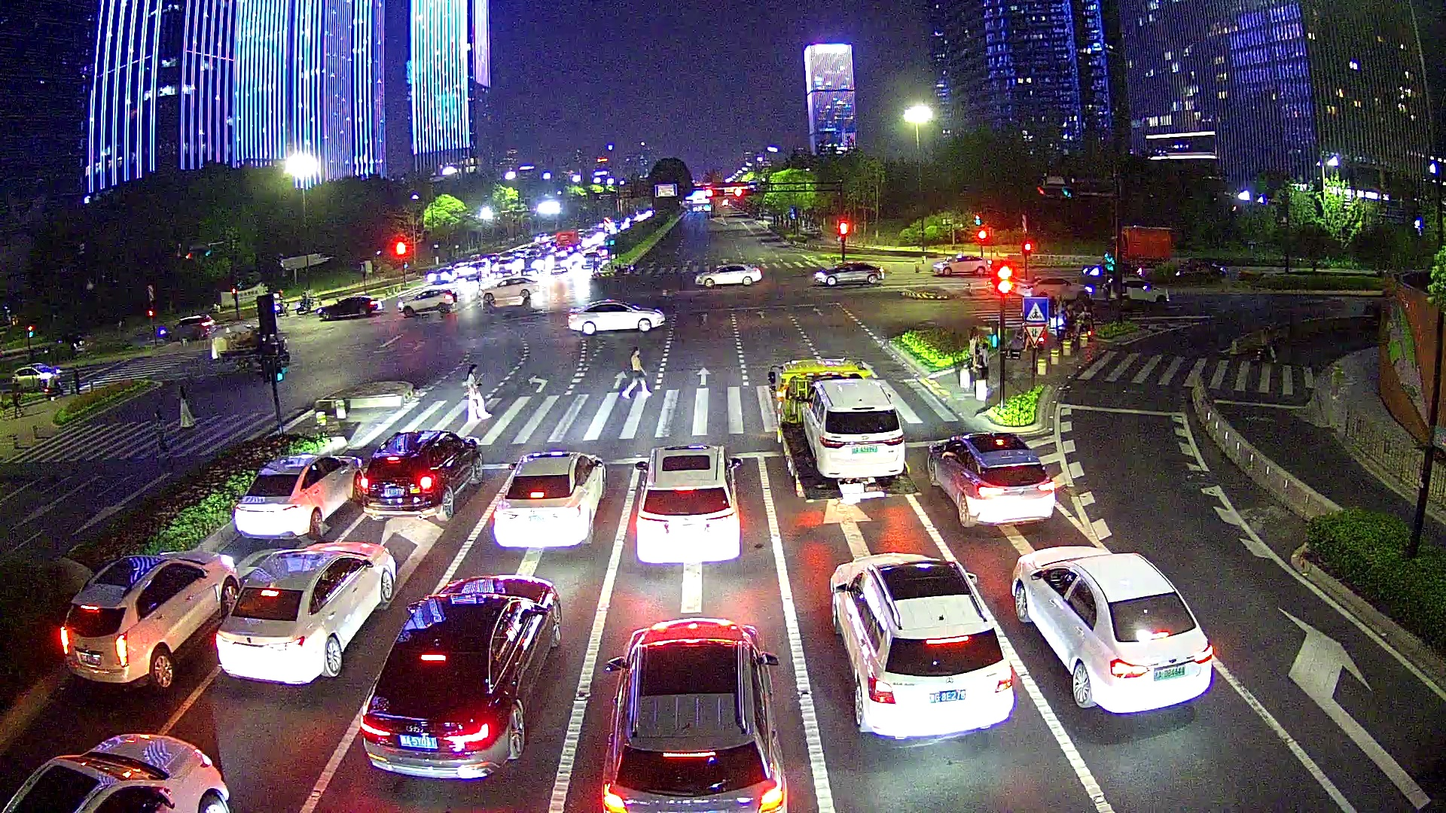person: (459, 360, 493, 423), (621, 344, 651, 403)
vehicle: (358, 571, 563, 781), (594, 613, 795, 808), (828, 548, 1017, 744), (1011, 540, 1219, 718), (47, 530, 239, 688), (215, 536, 407, 687), (758, 338, 917, 504), (230, 428, 369, 540), (628, 438, 745, 568), (923, 417, 1055, 530), (802, 372, 909, 489), (488, 445, 609, 548), (353, 423, 480, 518), (565, 296, 667, 336), (694, 260, 761, 287), (931, 253, 999, 278), (813, 259, 878, 285), (313, 294, 381, 318), (482, 273, 535, 300), (397, 291, 459, 313)
